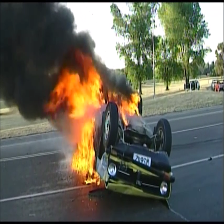fire_h: (45, 47, 104, 174), (108, 91, 141, 125)
fire_l: (84, 172, 100, 186)
